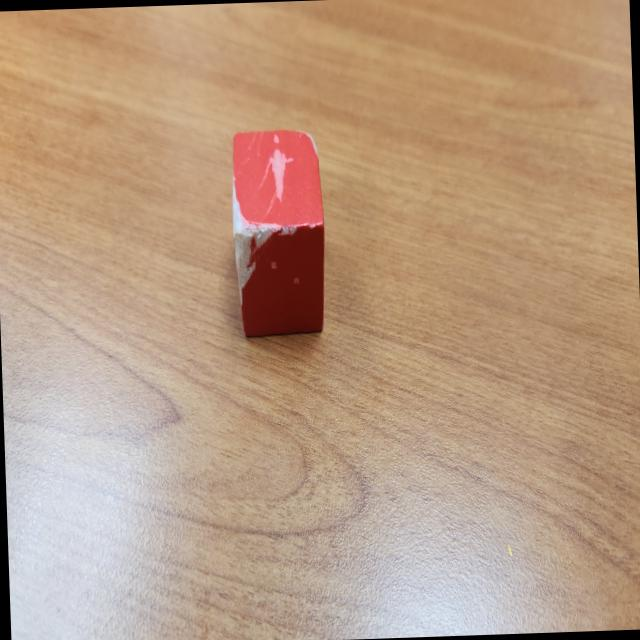broken: (229, 128, 328, 338)
